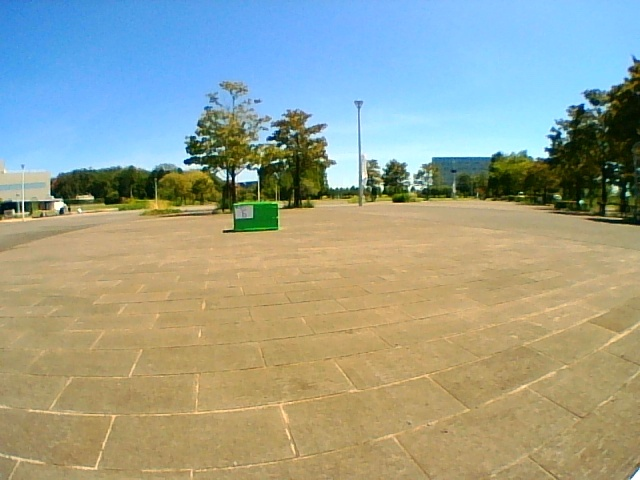green_box: (234, 202, 279, 231)
tag: (236, 206, 252, 218)
